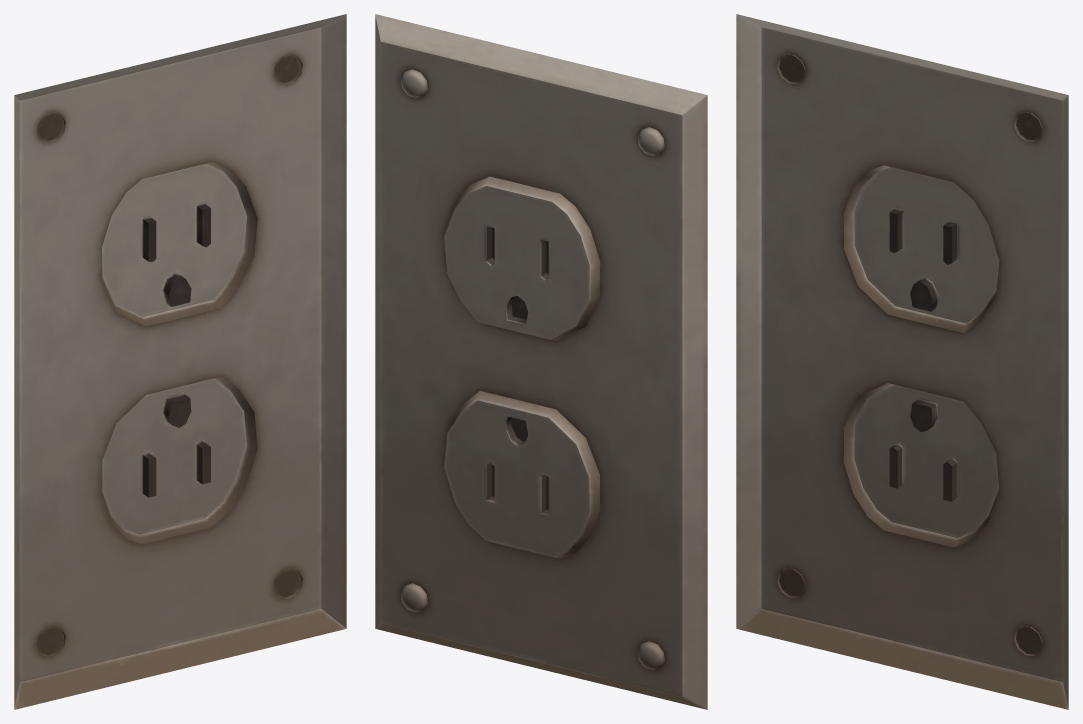
Rendered from SM_Outlet.fbx.
The picture shows the model from 3 angles, left to right: view 1: azimuth 30°, elevation 25°; view 2: azimuth 150°, elevation 25°; view 3: azimuth 330°, elevation 25°; orthographic projection.
Visible parts, largest first — view 1: SM_Outlet_LOD0; view 2: SM_Outlet_LOD0; view 3: SM_Outlet_LOD0.
Boxes of the visible parts, bbox=[...] form: SM_Outlet_LOD0: bbox=[14, 14, 346, 709]; SM_Outlet_LOD0: bbox=[375, 14, 707, 709]; SM_Outlet_LOD0: bbox=[736, 14, 1068, 709].
Bounding box in the file's own units: 8.01 × 0.6366 × 14.15.
1 material, 1 textured.
